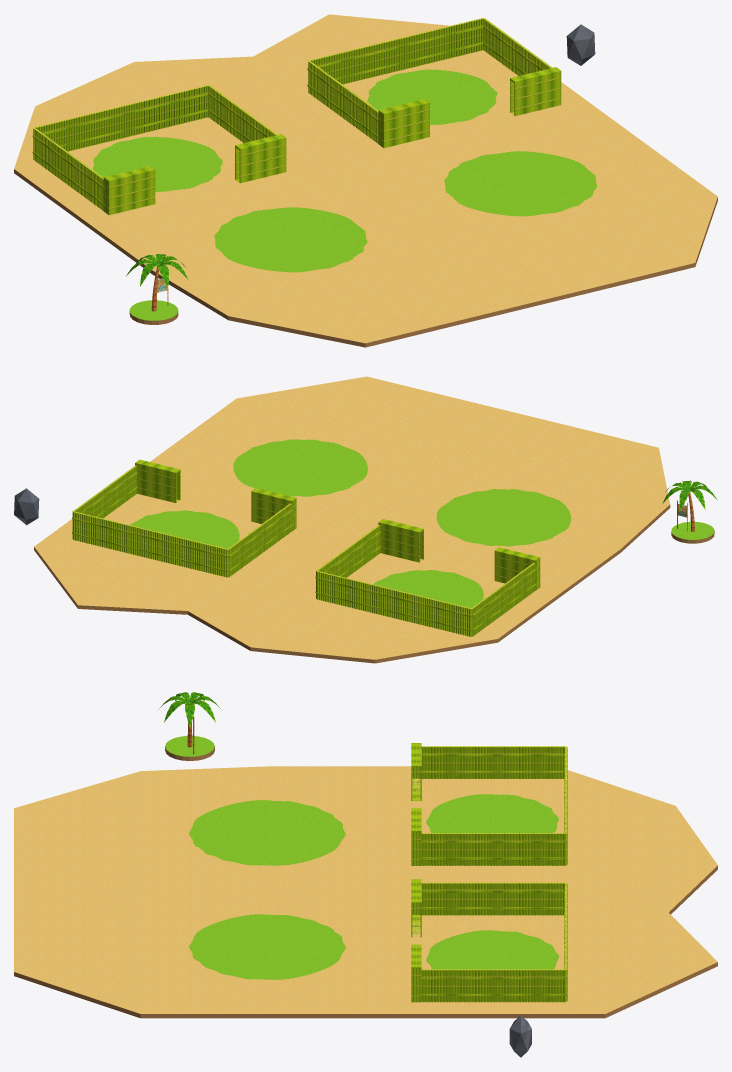
Rendered from surface-25-CVPxsTqe.glb.
3 renders of one model, top to bottom at view 1: azimuth 30°, elevation 25°; view 2: azimuth 150°, elevation 25°; view 3: azimuth 270°, elevation 25°, orthographic. The views are drawn at different scales.
Parts seen in each view (by area): view 1: HI_Surface_25, FLC_Regions_25, HI_SceneFixed_25_east-gate-wall-2, HI_SceneFixed_25_west-gate-wall-2, HI_SceneFixed_25_west-gate-wall-0, HI_SceneFixed_25_east-gate-wall-0, HI_SceneFixed_25_west-gate-pocket-left, HI_SceneFixed_25_east-gate-pocket-right, HI_SceneFixed_25_west-gate-pocket-right, HI_SceneFixed_25_east-gate-pocket-left, HI_SceneFixed_25_west-gate-wall-1, HI_SceneFixed_25_east-gate-wall-1 (+3 smaller); view 2: HI_Surface_25, FLC_Regions_25, HI_SceneFixed_25_east-gate-wall-2, HI_SceneFixed_25_west-gate-wall-2, HI_SceneFixed_25_west-gate-wall-0, HI_SceneFixed_25_east-gate-wall-0, HI_SceneFixed_25_east-gate-pocket-right, HI_SceneFixed_25_west-gate-pocket-right, HI_SceneFixed_25_east-gate-wall-1, HI_SceneFixed_25_west-gate-wall-1, HI_SceneFixed_25_west-gate-pocket-left, HI_SceneFixed_25_east-gate-pocket-left (+3 smaller); view 3: HI_Surface_25, FLC_Regions_25, HI_SceneFixed_25_east-gate-wall-0, HI_SceneFixed_25_east-gate-wall-1, HI_SceneFixed_25_west-gate-wall-1, HI_SceneFixed_25_west-gate-wall-0, HI_SceneryIslet_0.014, HI_Palm.013, HI_BasaltOutcrop.014, HI_SceneFixed_25_east-gate-pocket-right, HI_SceneFixed_25_west-gate-pocket-left, HI_SceneFixed_25_west-gate-pocket-right (+1 smaller).
Part boxes in pixels (x1,y1,x2,y2): HI_Surface_25: [14, 14, 717, 347]; FLC_Regions_25: [92, 69, 597, 272]; HI_SceneFixed_25_east-gate-wall-2: [308, 18, 483, 84]; HI_SceneFixed_25_west-gate-wall-2: [34, 85, 208, 151]; HI_SceneFixed_25_west-gate-wall-0: [32, 128, 104, 210]; HI_SceneFixed_25_east-gate-wall-0: [307, 61, 379, 143]; HI_SceneFixed_25_west-gate-pocket-left: [103, 166, 155, 215]; HI_SceneFixed_25_east-gate-pocket-right: [510, 67, 561, 116]; HI_SceneFixed_25_west-gate-pocket-right: [235, 134, 286, 183]; HI_SceneFixed_25_east-gate-pocket-left: [378, 99, 429, 147]; HI_SceneFixed_25_west-gate-wall-1: [208, 85, 277, 142]; HI_SceneFixed_25_east-gate-wall-1: [483, 18, 552, 75]; HI_Surface_25: [34, 376, 670, 663]; FLC_Regions_25: [130, 439, 570, 607]; HI_SceneFixed_25_east-gate-wall-2: [72, 511, 228, 577]; HI_SceneFixed_25_west-gate-wall-2: [316, 571, 471, 636]; HI_SceneFixed_25_west-gate-wall-0: [471, 563, 536, 636]; HI_SceneFixed_25_east-gate-wall-0: [228, 503, 293, 577]; HI_SceneFixed_25_east-gate-pocket-right: [135, 459, 180, 502]; HI_SceneFixed_25_west-gate-pocket-right: [378, 519, 423, 562]; HI_SceneFixed_25_east-gate-wall-1: [72, 465, 137, 538]; HI_SceneFixed_25_west-gate-wall-1: [315, 525, 380, 598]; HI_SceneFixed_25_west-gate-pocket-left: [494, 547, 540, 590]; HI_SceneFixed_25_east-gate-pocket-left: [251, 488, 296, 531]; HI_Surface_25: [14, 766, 717, 1018]; FLC_Regions_25: [189, 794, 559, 979]; HI_SceneFixed_25_east-gate-wall-0: [419, 882, 565, 915]; HI_SceneFixed_25_east-gate-wall-1: [419, 969, 565, 1002]; HI_SceneFixed_25_west-gate-wall-1: [419, 833, 565, 865]; HI_SceneFixed_25_west-gate-wall-0: [419, 746, 565, 778]; HI_SceneryIslet_0.014: [165, 736, 214, 760]; HI_Palm.013: [158, 692, 221, 747]; HI_BasaltOutcrop.014: [509, 1015, 531, 1057]; HI_SceneFixed_25_east-gate-pocket-right: [411, 944, 421, 1002]; HI_SceneFixed_25_west-gate-pocket-left: [411, 743, 421, 800]; HI_SceneFixed_25_west-gate-pocket-right: [411, 808, 421, 865].
Size of the model in its own units: 49.97 by 5.15 by 48.
9 materials, 8 textured.
